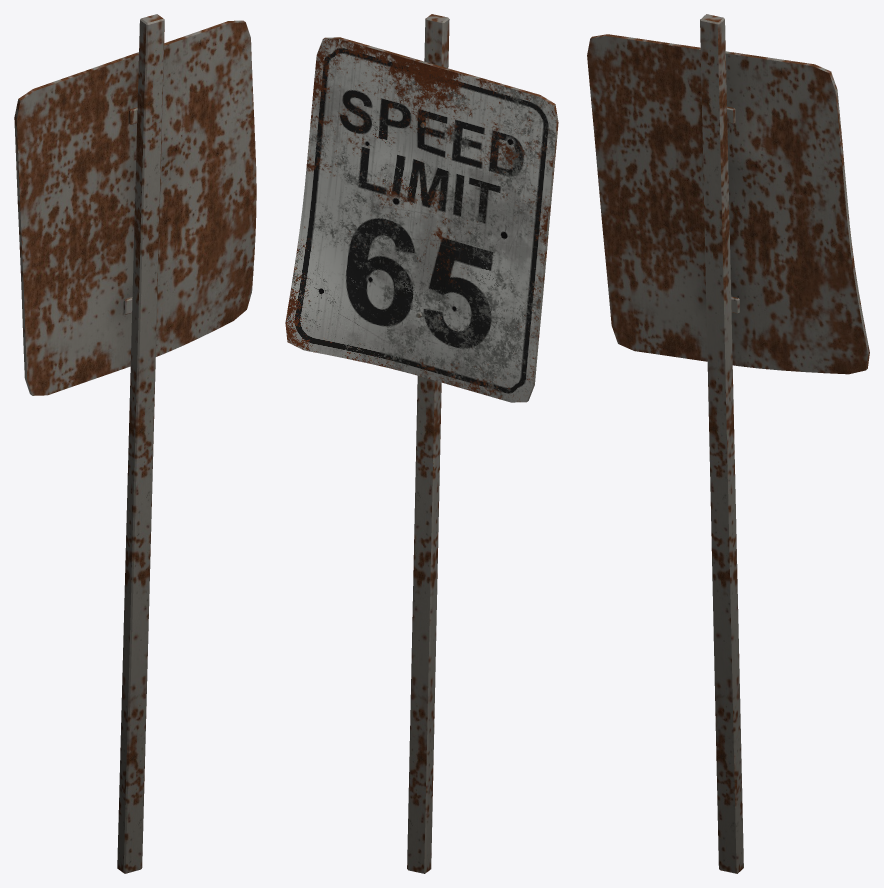
Rendered from sign_speed.glb.
3 renders of one model, left to right at view 1: azimuth 30°, elevation 25°; view 2: azimuth 150°, elevation 25°; view 3: azimuth 330°, elevation 25°, orthographic. The views are drawn at different scales.
Parts seen in each view (by area): view 1: sign_speed_galvanized; view 2: sign_speed_sign_speed, sign_speed_galvanized; view 3: sign_speed_galvanized.
Boxes of the visible parts, bbox=[...] form: sign_speed_galvanized: bbox=[14, 14, 256, 873]; sign_speed_sign_speed: bbox=[285, 38, 556, 402]; sign_speed_galvanized: bbox=[323, 14, 558, 873]; sign_speed_galvanized: bbox=[587, 14, 869, 873].
Size of the model in its own units: 0.8103 by 2.6 by 0.1923.
Materials: 2 (2 with a texture image).
